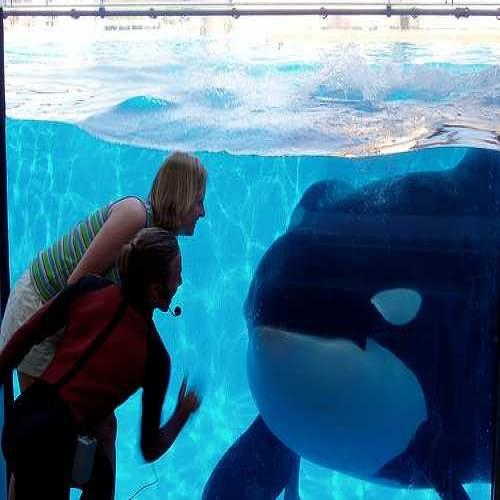killer_whale-endangered: (233, 161, 500, 495)
